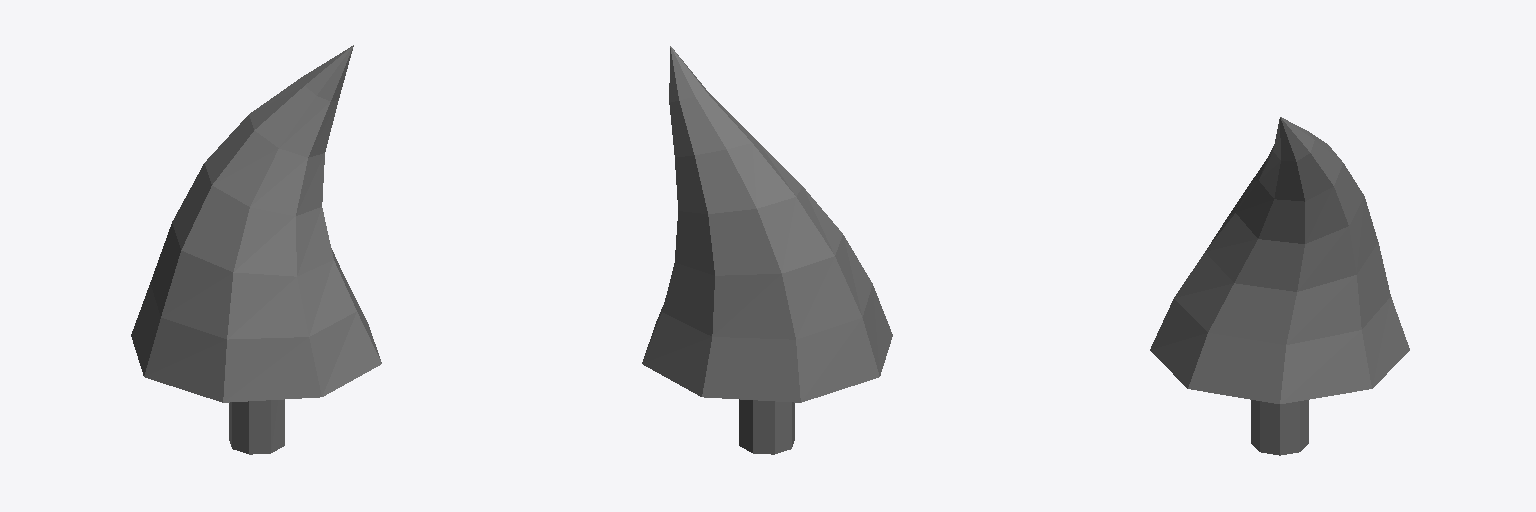
File: TreeB2.obj
The picture shows the model from 3 angles: view 1: azimuth 30°, elevation 25°; view 2: azimuth 150°, elevation 25°; view 3: azimuth 270°, elevation 25°; orthographic projection.
Parts seen in each view (by area): view 1: pCone1; view 2: pCone1; view 3: pCone1.
Boxes of the visible parts, box(x1,y1,x2,y2) form: pCone1: box(131, 45, 381, 454); pCone1: box(642, 46, 892, 454); pCone1: box(1150, 117, 1409, 455).
Bounding box in the file's own units: 5.95 × 9.51 × 6.